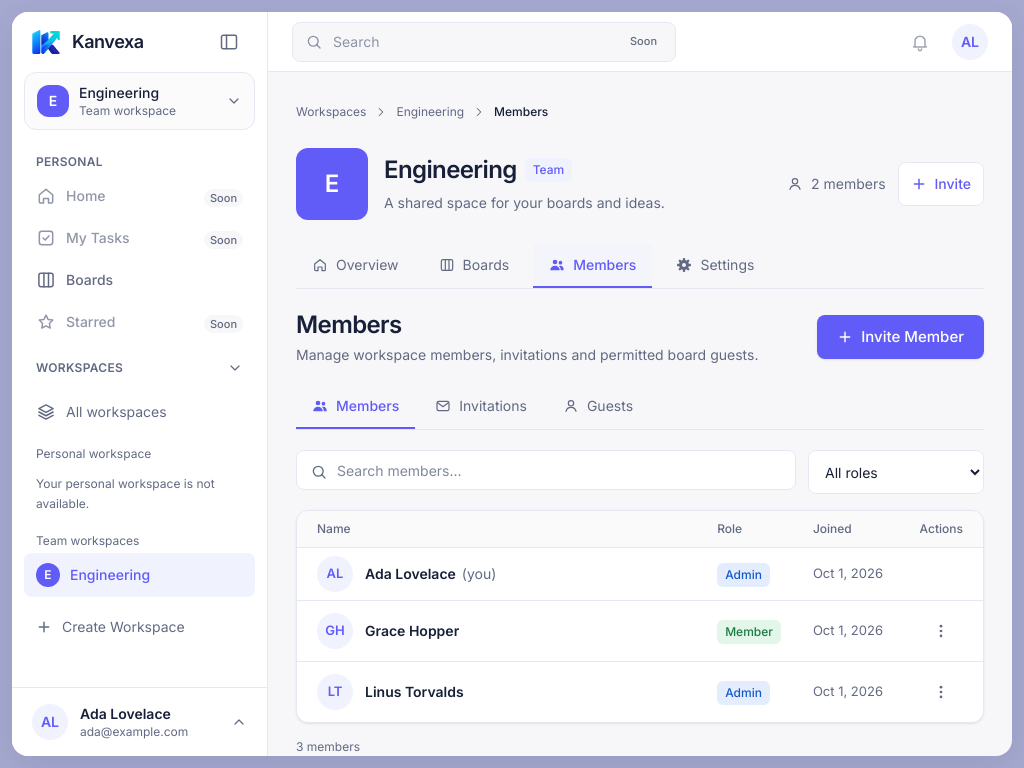
Test case: Workspace Members page › shows the last-ADMIN refusal and reloads the roster
The width and height of the screenshot is (1024, 768).
Click the button named "Actions for Linus Torvalds" at (941, 692), box [919,670,963,714]
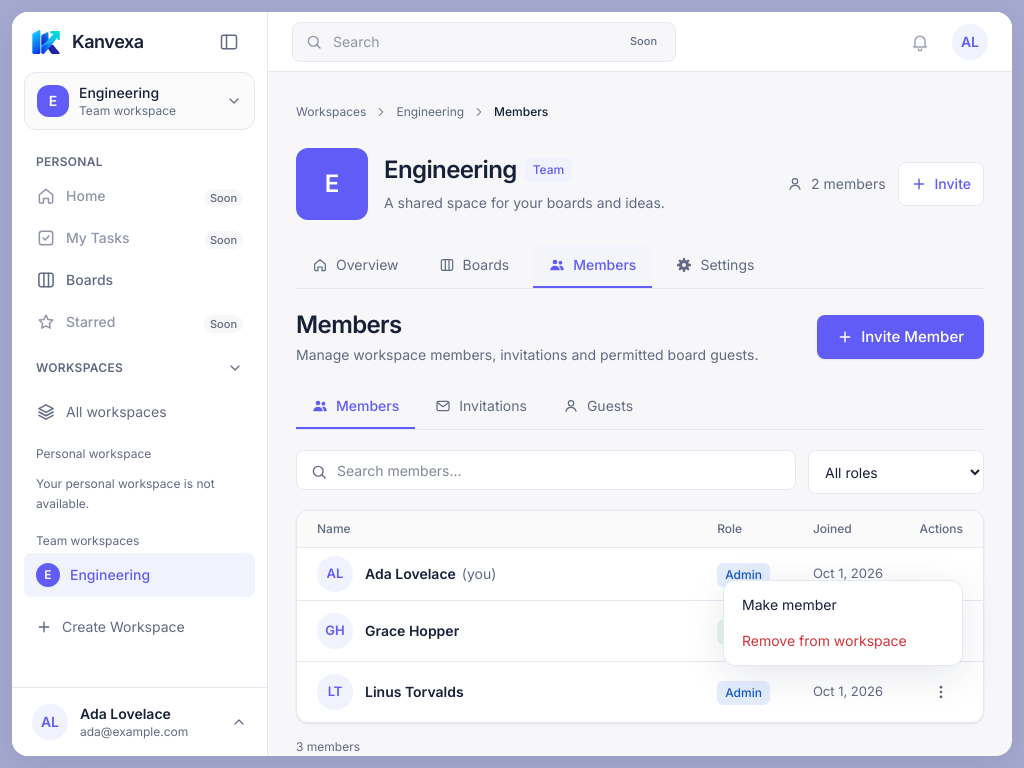
Click the button "Make member" at (843, 605), box [730,587,956,623]
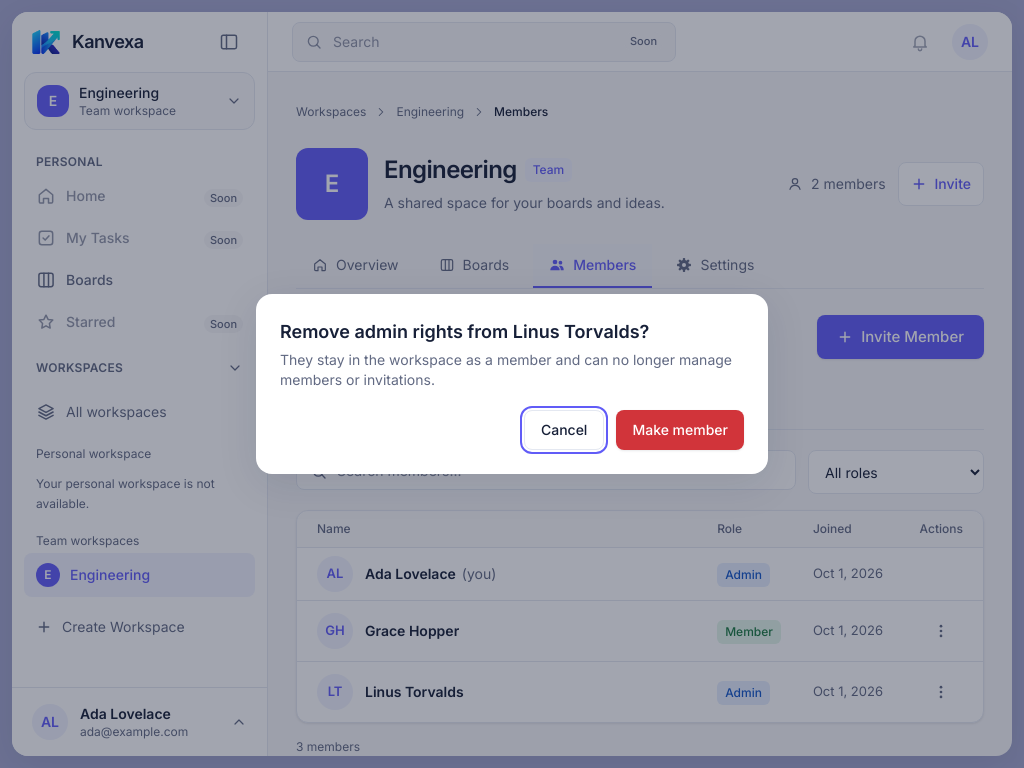
Click the button "Make member" at (680, 430), box [616,410,744,450]
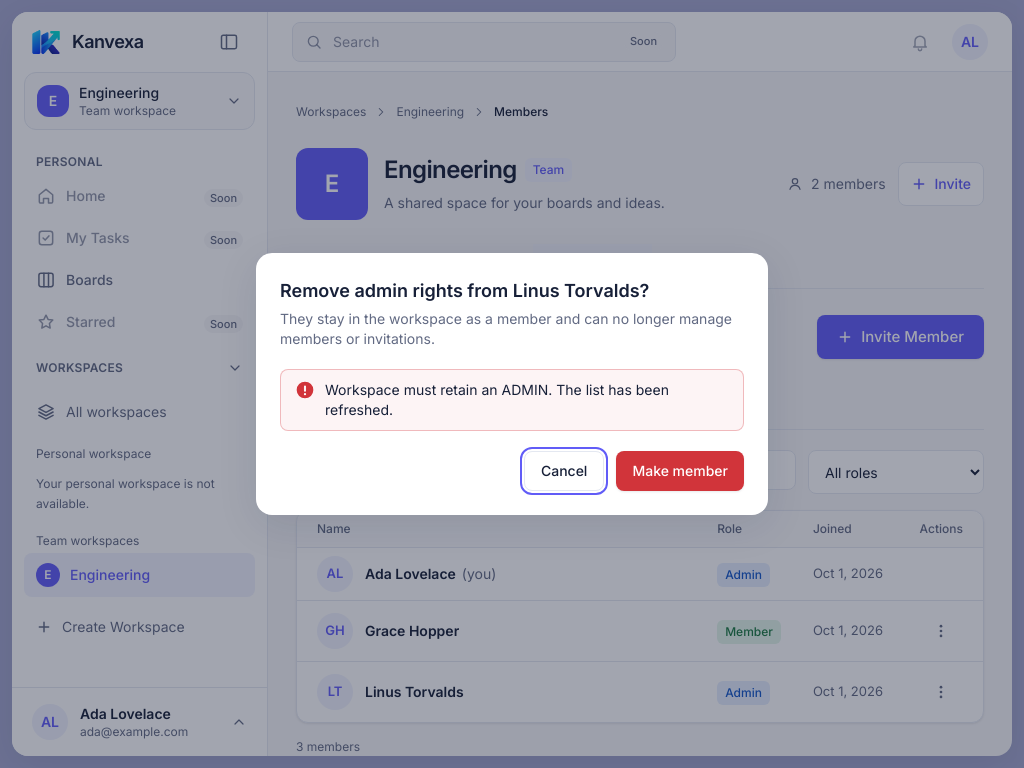
Expected: the text "Workspace must retain an ADMIN. The list has been refreshed." is shown, [325,380,729,420]
